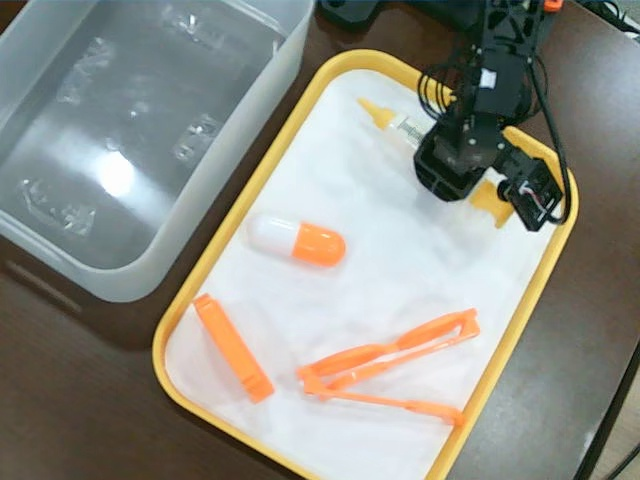pill: (243, 211, 348, 265)
